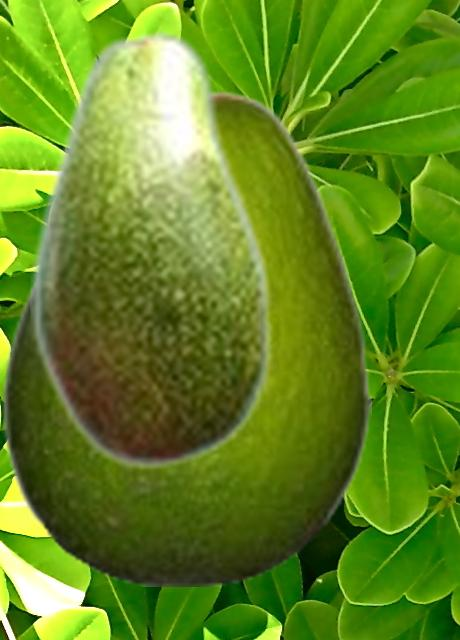avocado: (0, 89, 370, 585), (30, 26, 273, 472)
